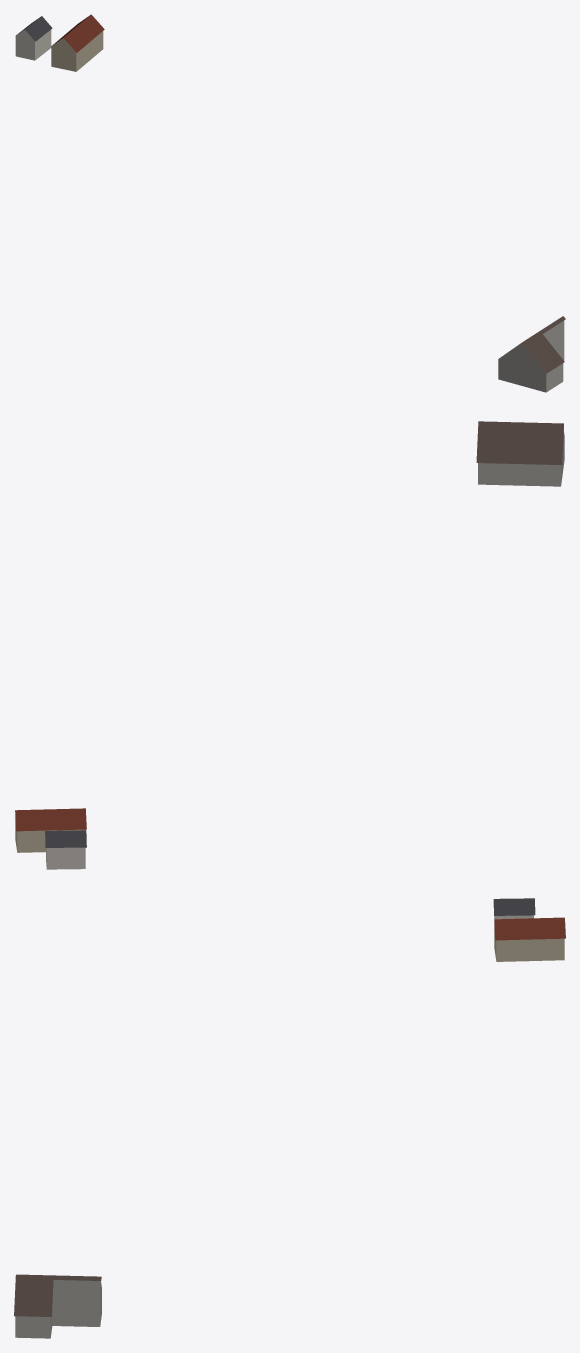
The picture shows the model from 3 angles, top to bottom: view 1: azimuth 30°, elevation 25°; view 2: azimuth 150°, elevation 25°; view 3: azimuth 330°, elevation 25°; orthographic projection. The views are drawn at different scales.
Parts seen in each view (by area): view 1: buildings; view 2: buildings; view 3: buildings.
Boxes of the visible parts, x1,y1,x2,y2 form: buildings: [15, 14, 565, 392]; buildings: [15, 421, 564, 869]; buildings: [14, 898, 565, 1338].
Bounding box in the file's own units: 32.24 × 13.43 × 264.
